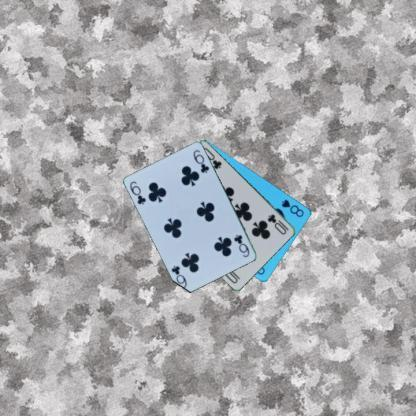10c: (265, 211, 290, 236)
6c: (127, 178, 148, 206), (232, 232, 250, 259)
8s: (279, 196, 305, 218)
